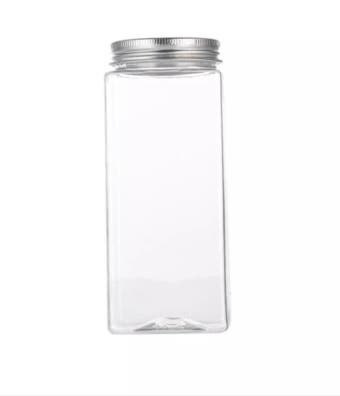plastic: (104, 35, 230, 331)
